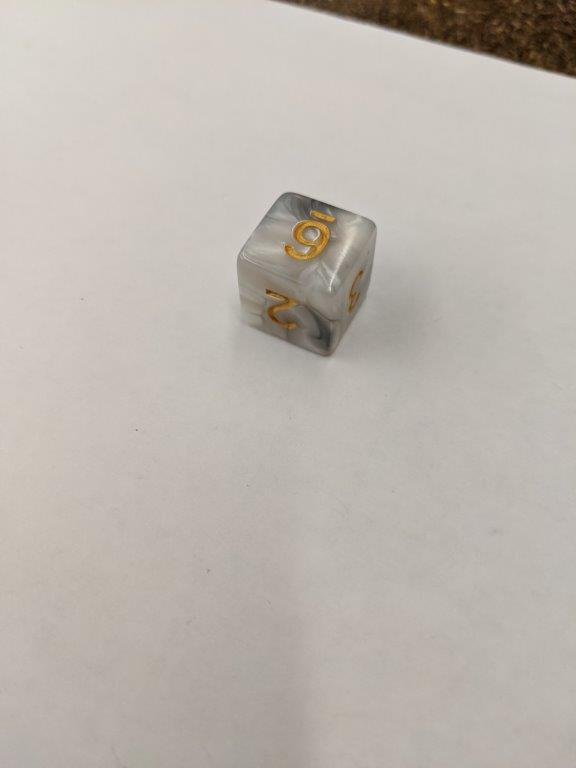d6-6: (238, 187, 377, 354)
